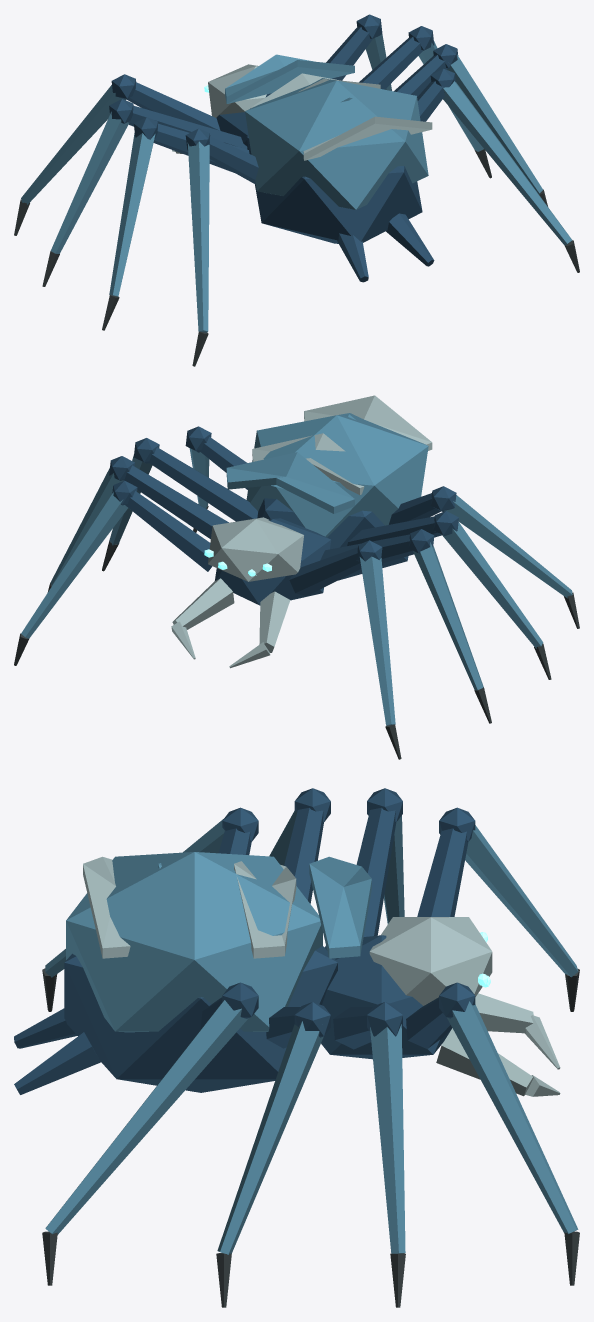
The model's file is rime_widow.glb.
3 views of the same model, one above another, from view 1: azimuth 30°, elevation 25°; view 2: azimuth 150°, elevation 25°; view 3: azimuth 270°, elevation 25° (orthographic). The views are drawn at different scales.
Visible parts, largest first — view 1: rime_widow_AnimatedMesh; view 2: rime_widow_AnimatedMesh; view 3: rime_widow_AnimatedMesh.
Boxes of the visible parts, box(x1,y1,x2,y2) form: rime_widow_AnimatedMesh: box(14, 14, 579, 366); rime_widow_AnimatedMesh: box(14, 395, 579, 759); rime_widow_AnimatedMesh: box(14, 788, 579, 1307).
Size of the model in its own units: 2.31 by 0.997 by 1.72.
